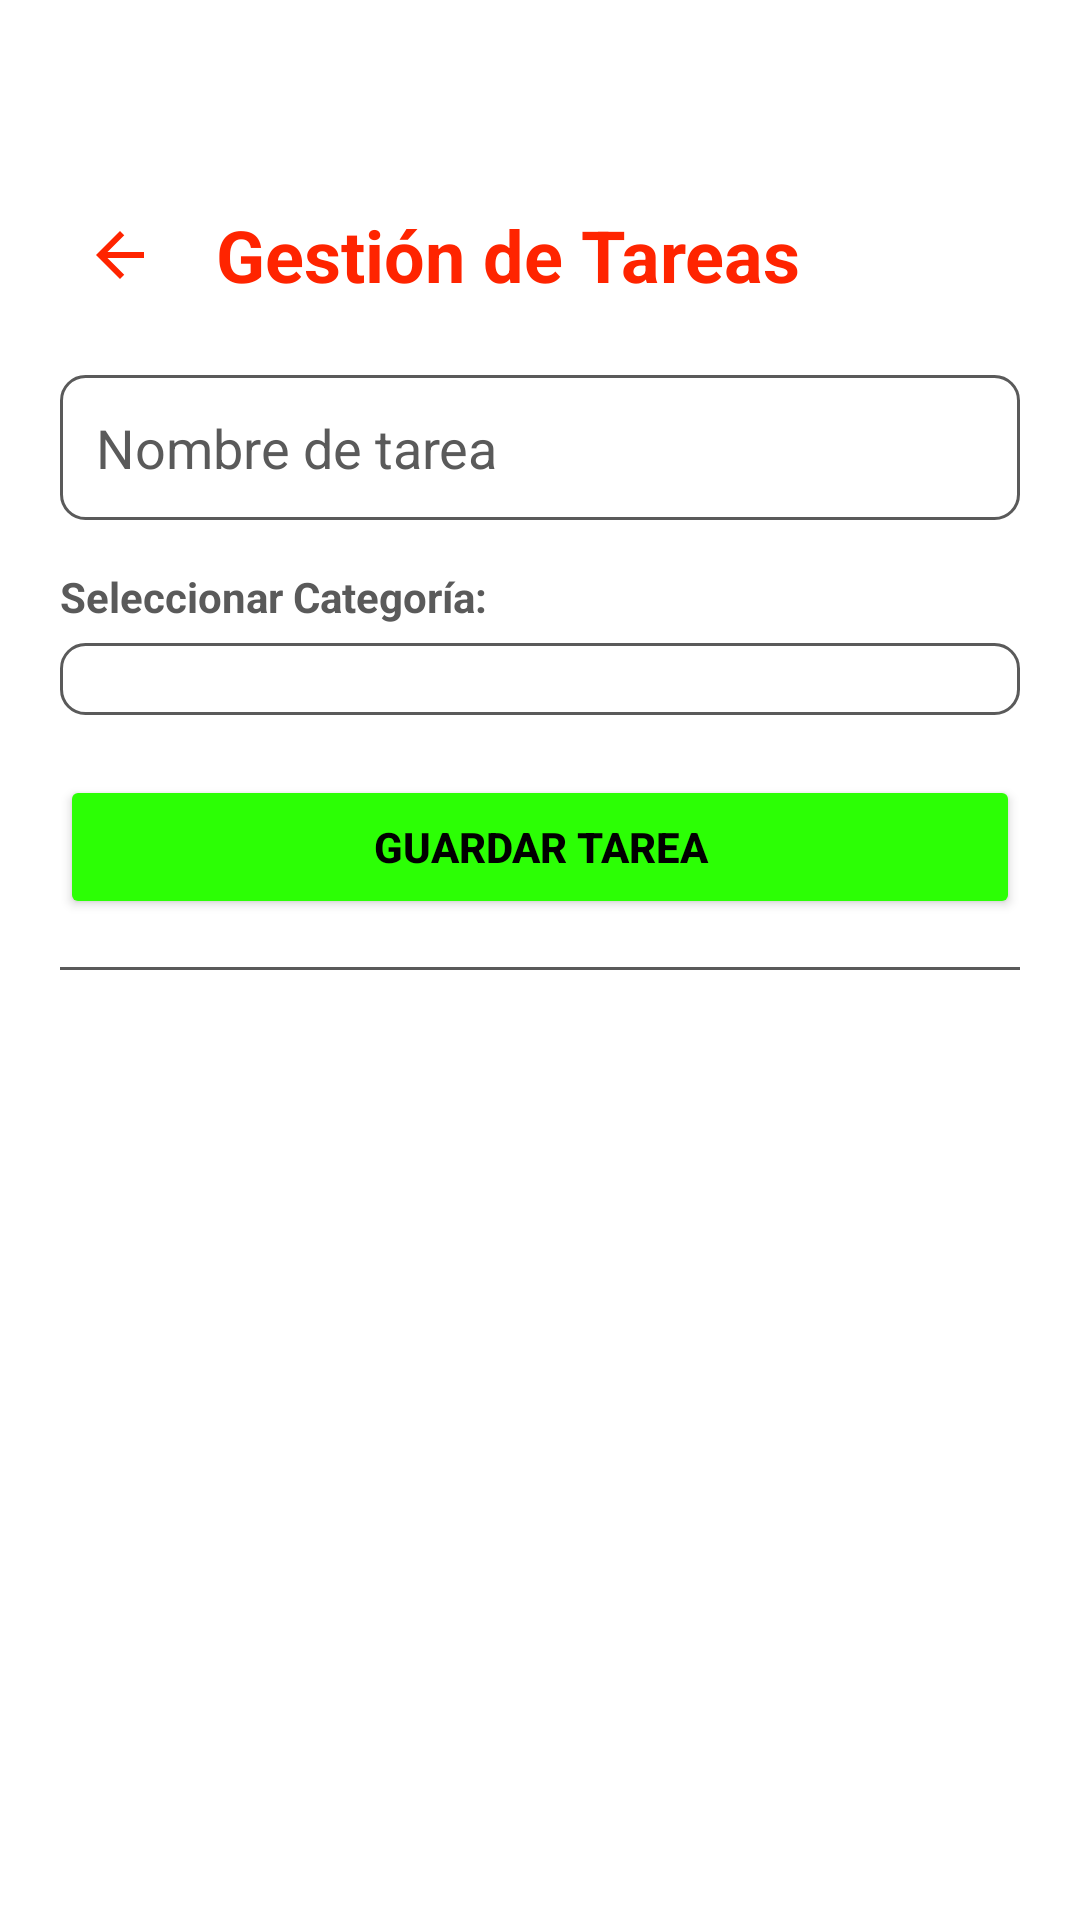

Locate icon controls on the screen. Image size 1080×1920, boxes as box=[x1, y1, x2, y2].
Volver: box=[96, 231, 144, 279]
